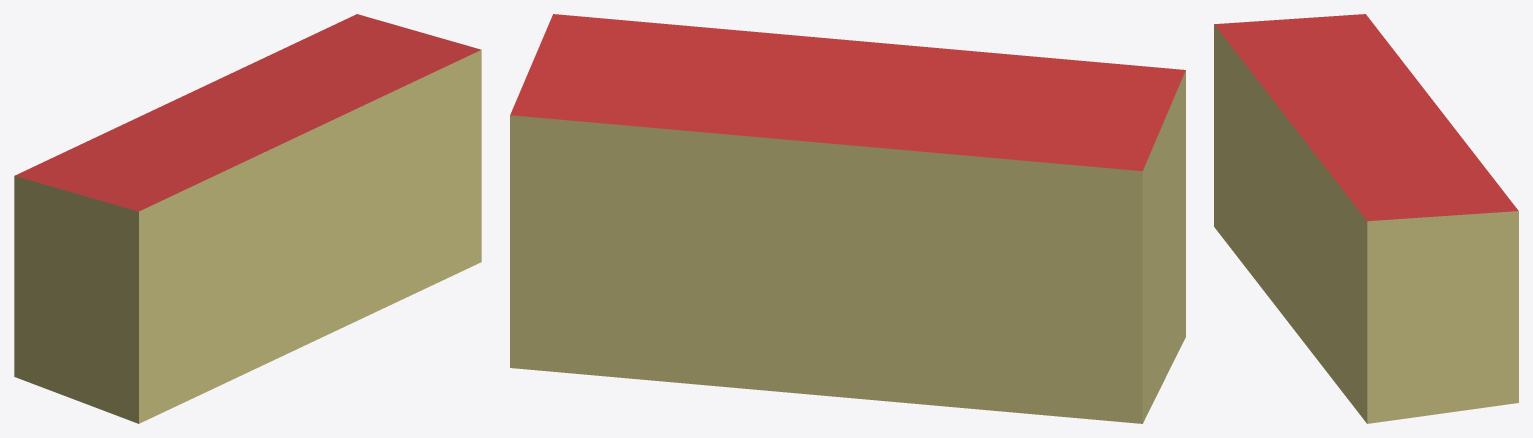
The picture shows the model from 3 angles, left to right: view 1: azimuth 30°, elevation 25°; view 2: azimuth 150°, elevation 25°; view 3: azimuth 270°, elevation 25°; orthographic projection. The views are drawn at different scales.
Bounding box in the file's own units: 13.81 × 8.16 × 5.99.
